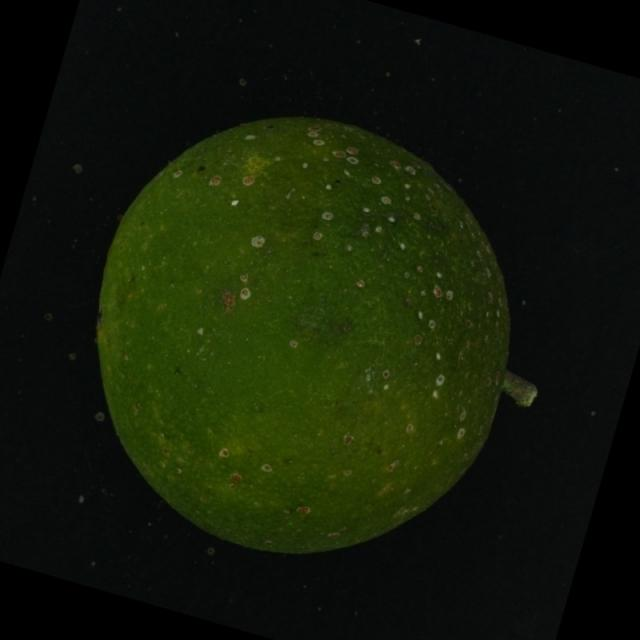grenning: (76, 90, 560, 586)
